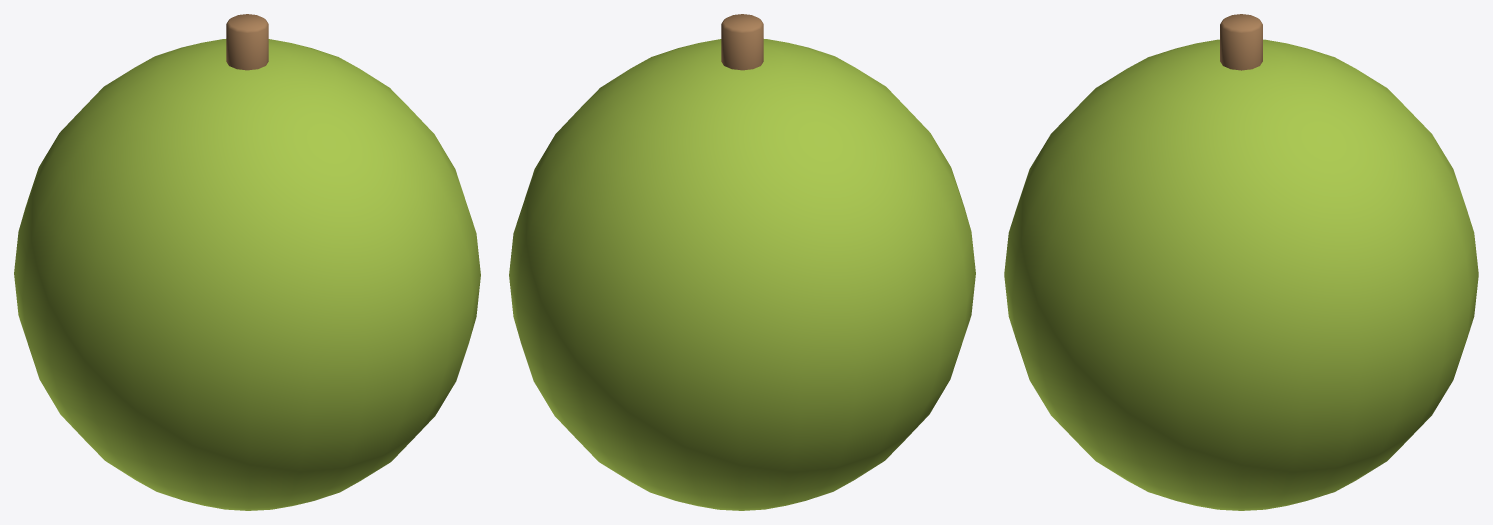
File: SM_EG_Fruit_green_apple_Stemmed_451712414a.fbx
3 renders of one model, left to right at view 1: azimuth 30°, elevation 25°; view 2: azimuth 150°, elevation 25°; view 3: azimuth 270°, elevation 25°, orthographic.
Visible parts, largest first — view 1: SM_EG_Fruit_green_apple_Stemmed_451712414a; view 2: SM_EG_Fruit_green_apple_Stemmed_451712414a; view 3: SM_EG_Fruit_green_apple_Stemmed_451712414a.
Boxes of the visible parts, x1=… form: SM_EG_Fruit_green_apple_Stemmed_451712414a: x1=14, y1=14, x2=480, y2=510; SM_EG_Fruit_green_apple_Stemmed_451712414a: x1=509, y1=14, x2=975, y2=510; SM_EG_Fruit_green_apple_Stemmed_451712414a: x1=1004, y1=14, x2=1478, y2=510.
Size of what is drawn, in the model's own units: 19.6 by 20 by 21.75.
